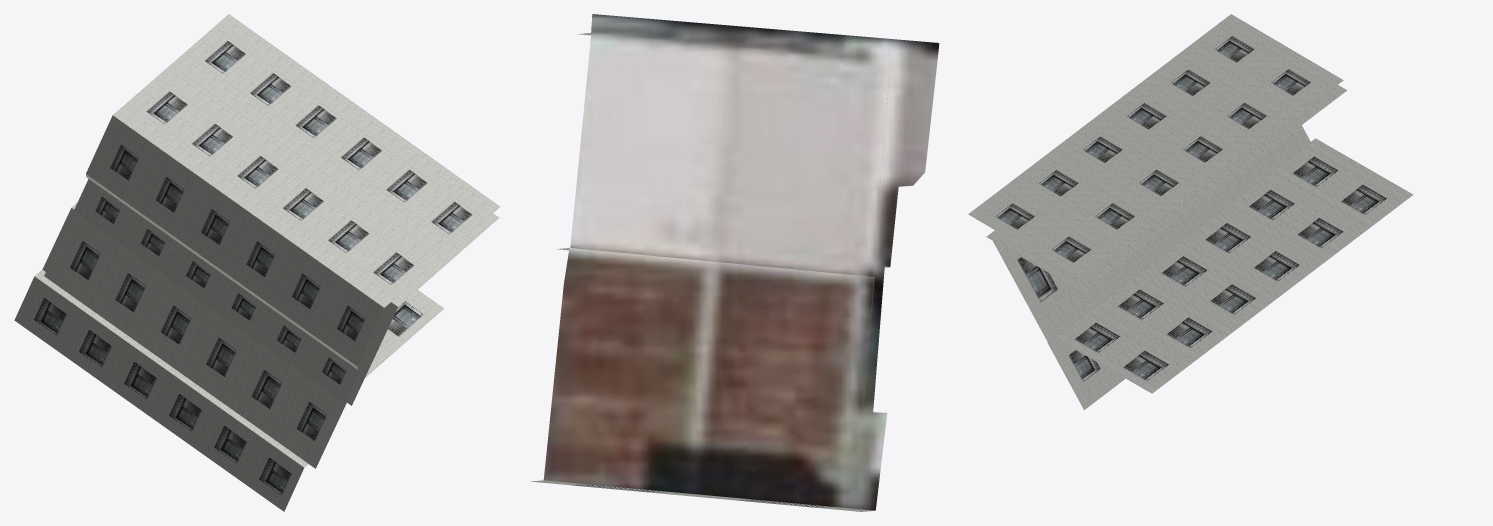
3 renders of one model, left to right at view 1: azimuth 30°, elevation 25°; view 2: azimuth 150°, elevation 25°; view 3: azimuth 270°, elevation 25°, orthographic. The views are drawn at different scales.
Bounding box in the file's own units: 23.21 × 25.87 × 29.99.
8 materials, 8 textured.
